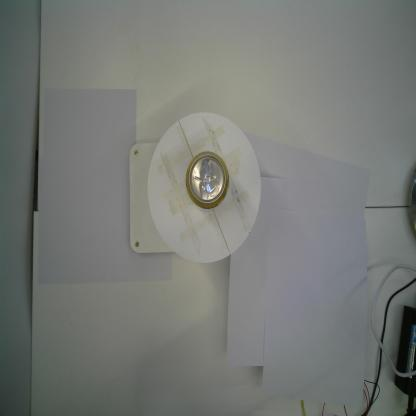Alcohol: (186, 150, 230, 210)
